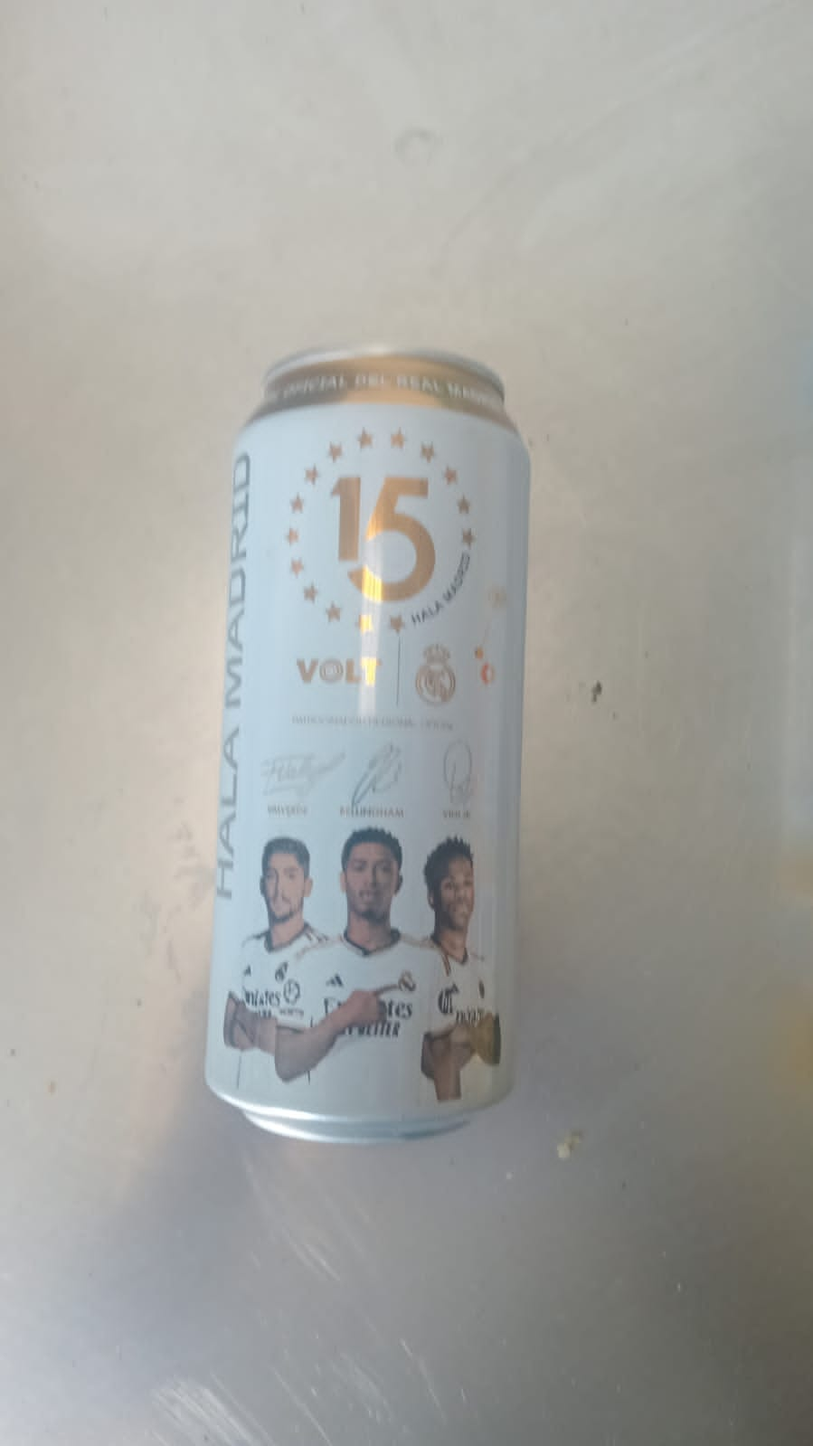Metal: (202, 339, 528, 1141)
